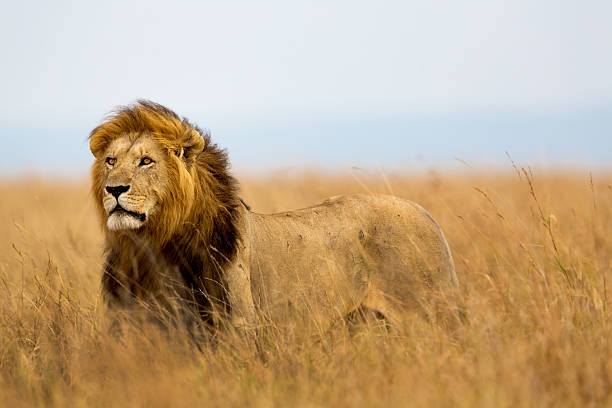lion: (41, 83, 257, 346)
